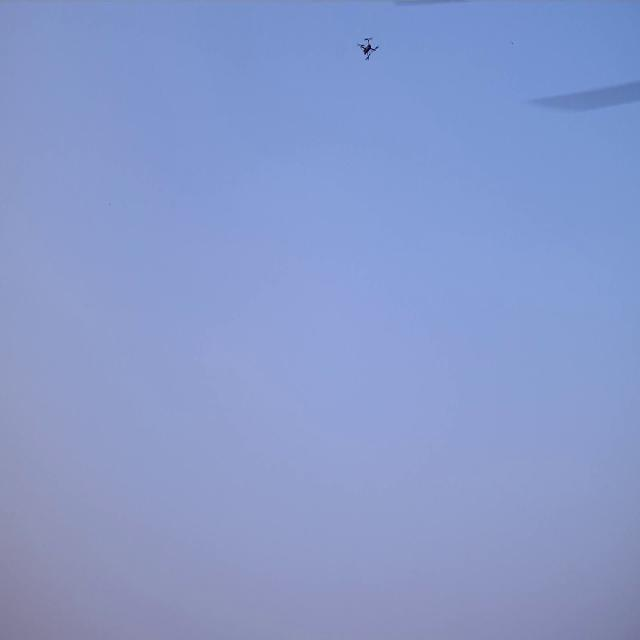UAV: (360, 38, 377, 60)
